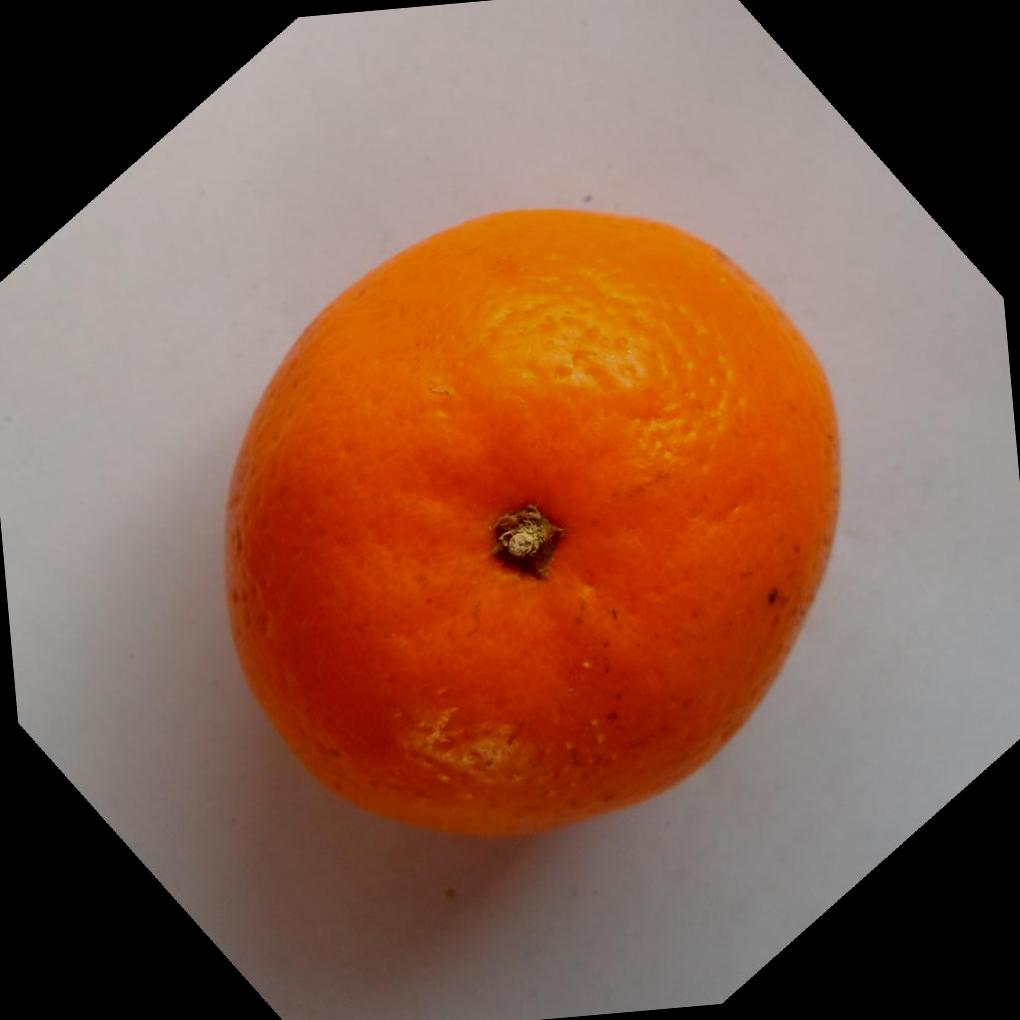FreshGuava: (217, 205, 840, 840)
